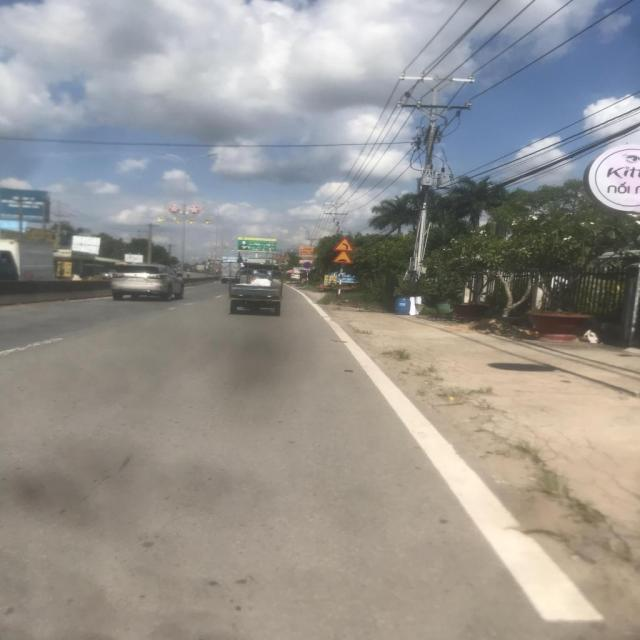cam_do_xe: (302, 262, 312, 269)
cho_ngoat_nguy_hiem_ben_trai: (332, 236, 356, 252)
duong_co_song_map_mo_nhan_tao: (332, 250, 355, 264)
